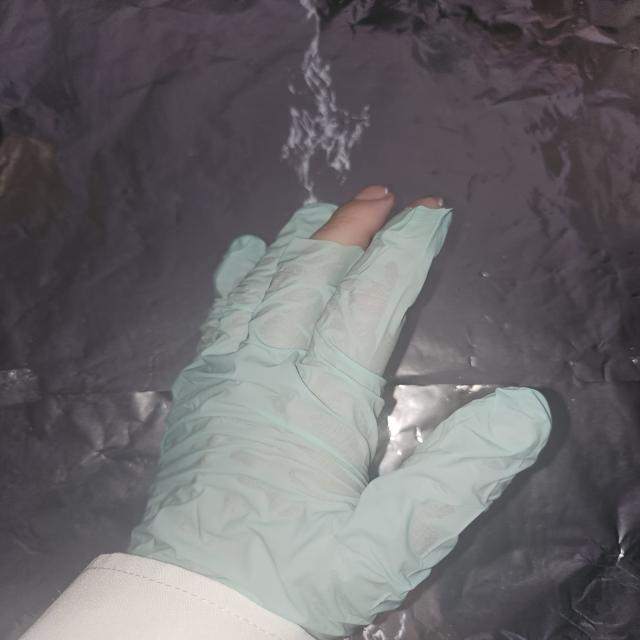gloves_damaged: (125, 182, 555, 638)
